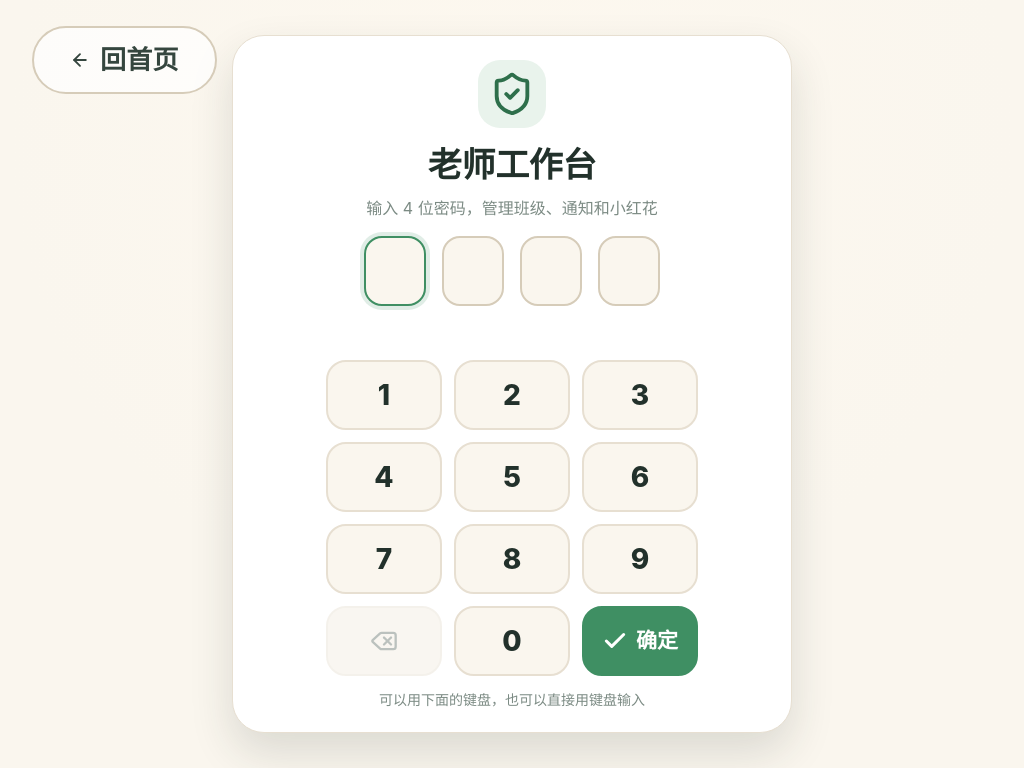
Scenario: PinGate › TestAsksForFourDigitsBeforeConfirming
The width and height of the screenshot is (1024, 768).
Click the button "2".
click(512, 395)  # box [454,360,570,430]
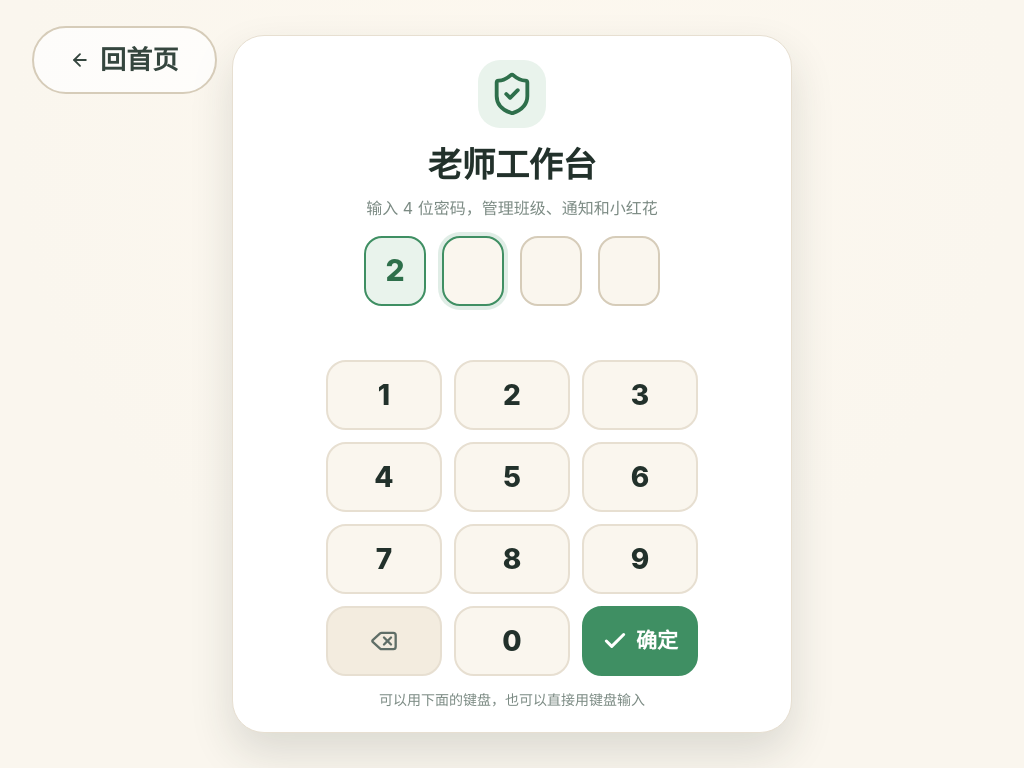
Click the button "确定".
click(640, 641)  # box [582,606,698,676]
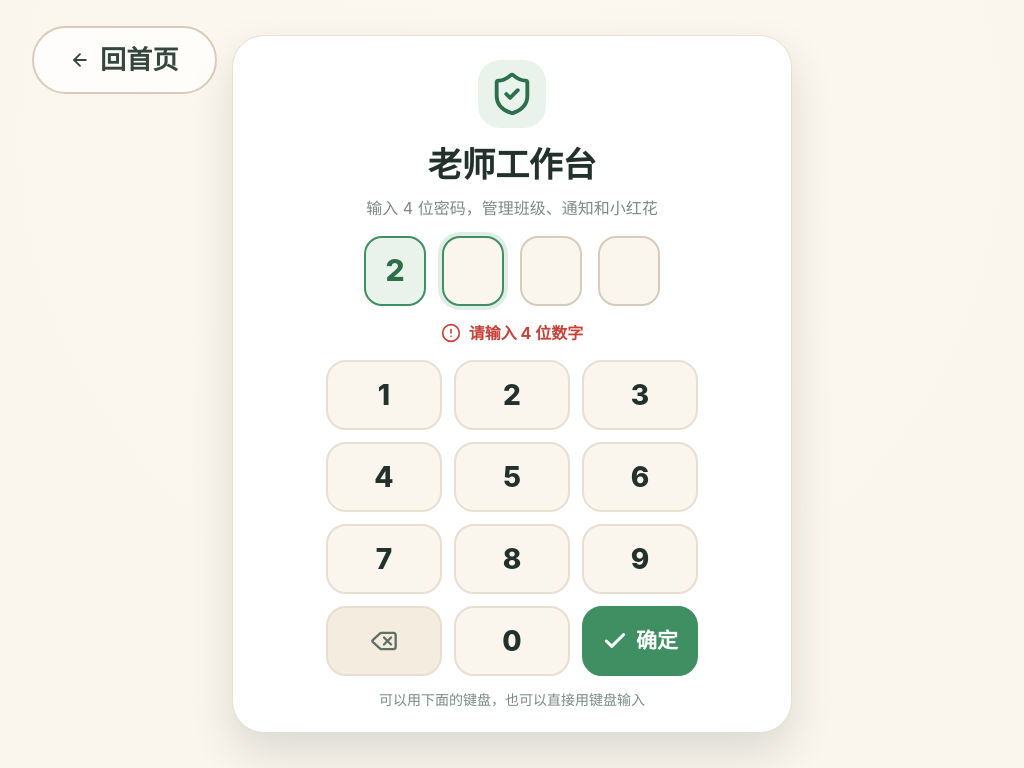
Check: the message reads "请输入 4 位数字", box [469,322,583,342]
